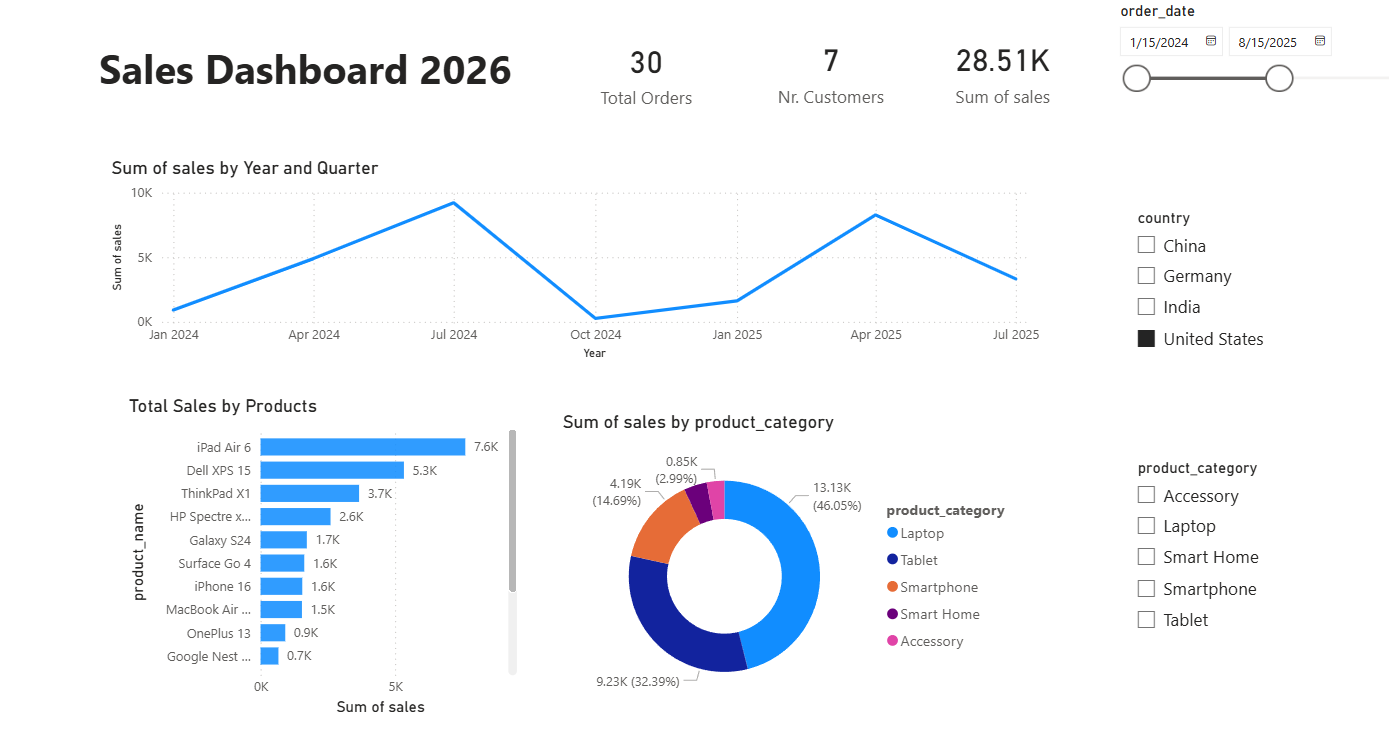

The dashboard page shown, as its layout file describes it:
{"tool":"powerbi","page":{"name":"Page 1","canvas":[1280,720],"ordinal":0},"visuals":[{"type":"barChart","title":"Total Sales by Products","fields":{"Category":["orders[1].product_name"],"Y":["Sum(orders[1].sales)"]},"box":[68.6,371.9,371.9,304.6],"z":0},{"type":"donutChart","fields":{"Y":["Sum(orders[1].sales)"],"Category":["orders[1].product_category"]},"box":[473.4,387,437.7,289.5],"z":1000},{"type":"card","fields":{"Values":["CountNonNull(orders[1].order_id)"]},"box":[473.4,1.4,166,138.6],"z":2000},{"type":"card","fields":{"Values":["Count(orders[1].customer_id)"]},"box":[639.5,0,177,138.6],"z":3000},{"type":"card","fields":{"Values":["Sum(orders[1].sales)"]},"box":[793.1,0,192.1,138.6],"z":4000},{"type":"lineChart","fields":{"Category":["orders[1].order_date.Variation.Date Hierarchy.Year","orders[1].order_date.Variation.Date Hierarchy.Quarter","orders[1].order_date.Variation.Date Hierarchy.Month","orders[1].order_date.Variation.Date Hierarchy.Day"],"Y":["Sum(orders[1].sales)"]},"box":[52.1,150.9,875.5,193.5],"z":4001},{"type":"slicer","fields":{"Values":["customers[1].country"]},"box":[1001.7,193.5,238.8,193.5],"z":4002},{"type":"slicer","fields":{"Values":["orders[1].product_category"]},"box":[1001.7,426.8,238.8,193.5],"z":4003},{"type":"slicer","fields":{"Values":["orders[1].order_date"]},"box":[985.3,0,295,193.5],"z":4004},{"type":"textbox","box":[41.2,37,426.8,70],"z":4005}]}

Visuals, with their boxes on the page's 1280x720 design canvas (x1, y1, x2, y2). These are canvas units, not pixel positions in the 1389x753 screenshot, which may show the page scaled, cropped or inside an application window:
"Total Sales by Products" barChart: pyautogui.locateOnScreen(69, 372, 440, 676)
donutChart - Sum(orders[1].sales) x orders[1].product_category: pyautogui.locateOnScreen(473, 387, 911, 676)
card - CountNonNull(orders[1].order_id): pyautogui.locateOnScreen(473, 1, 639, 140)
card - Count(orders[1].customer_id): pyautogui.locateOnScreen(640, 0, 816, 139)
card - Sum(orders[1].sales): pyautogui.locateOnScreen(793, 0, 985, 139)
lineChart - orders[1].order_date.Variation.Date Hierarchy.Year x orders[1].order_date.Variation.Date Hierarchy.Quarter: pyautogui.locateOnScreen(52, 151, 928, 344)
slicer - customers[1].country: pyautogui.locateOnScreen(1002, 194, 1240, 387)
slicer - orders[1].product_category: pyautogui.locateOnScreen(1002, 427, 1240, 620)
slicer - orders[1].order_date: pyautogui.locateOnScreen(985, 0, 1280, 194)
textbox: pyautogui.locateOnScreen(41, 37, 468, 107)
